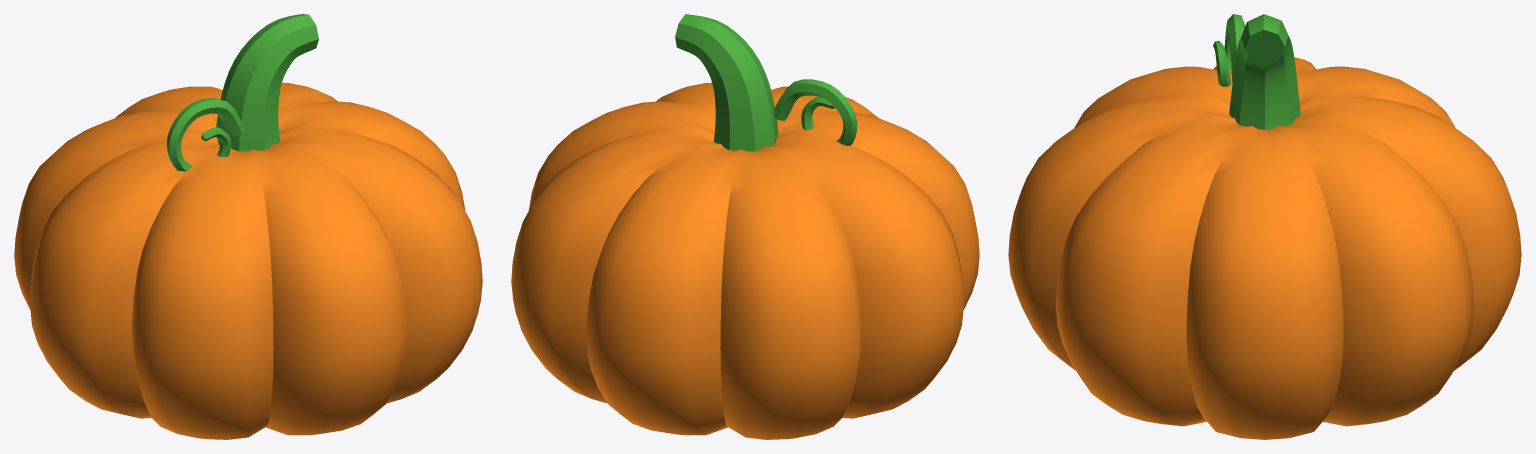
File: Pumpkin.fbx
The picture shows the model from 3 angles, left to right: view 1: azimuth 30°, elevation 25°; view 2: azimuth 150°, elevation 25°; view 3: azimuth 270°, elevation 25°; orthographic projection. The views are drawn at different scales.
Visible parts, largest first — view 1: Pumpkin; view 2: Pumpkin; view 3: Pumpkin.
Part boxes in pixels (left/top/right/bottom): Pumpkin: left=14, top=14, right=482, bottom=439; Pumpkin: left=511, top=14, right=979, bottom=439; Pumpkin: left=1008, top=14, right=1521, bottom=439.
Bounding box in the file's own units: 217 × 178 × 217.
Materials: 1 (1 with a texture image).
